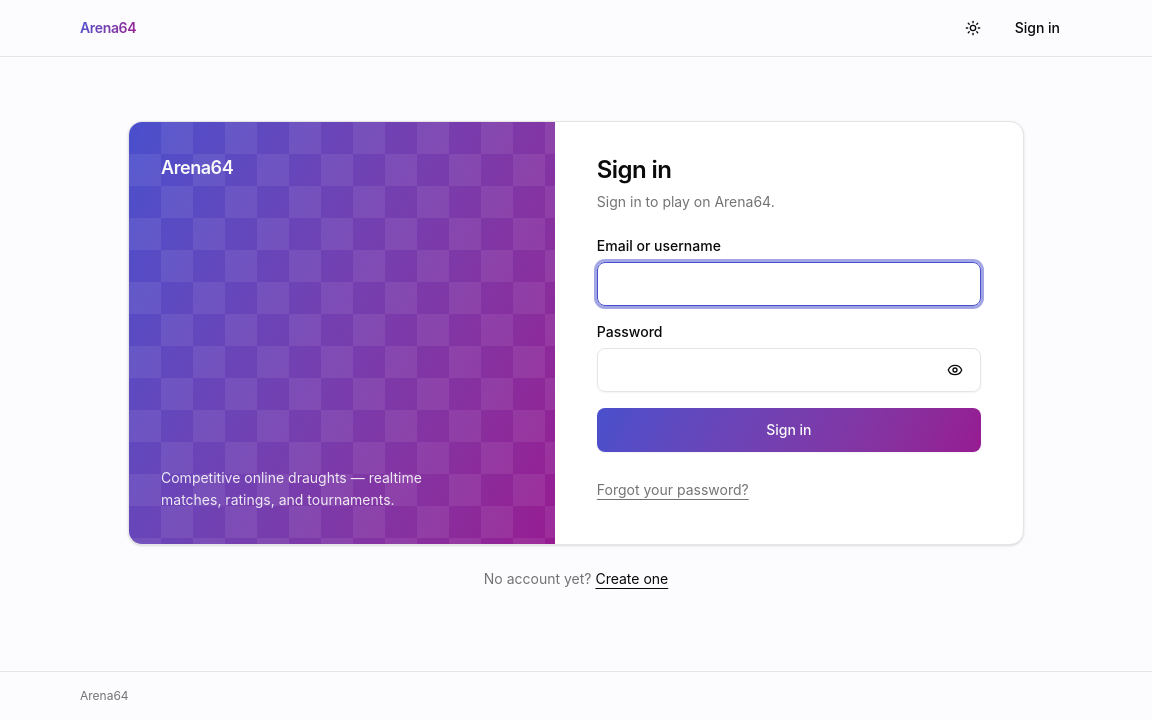
Test: a rejected sign-in — A64-031.E3 › names a network failure as a network failure
Type "player@example.com" into the field labelled "Email or username". click: {"x": 789, "y": 284}
box: [597, 262, 981, 306]
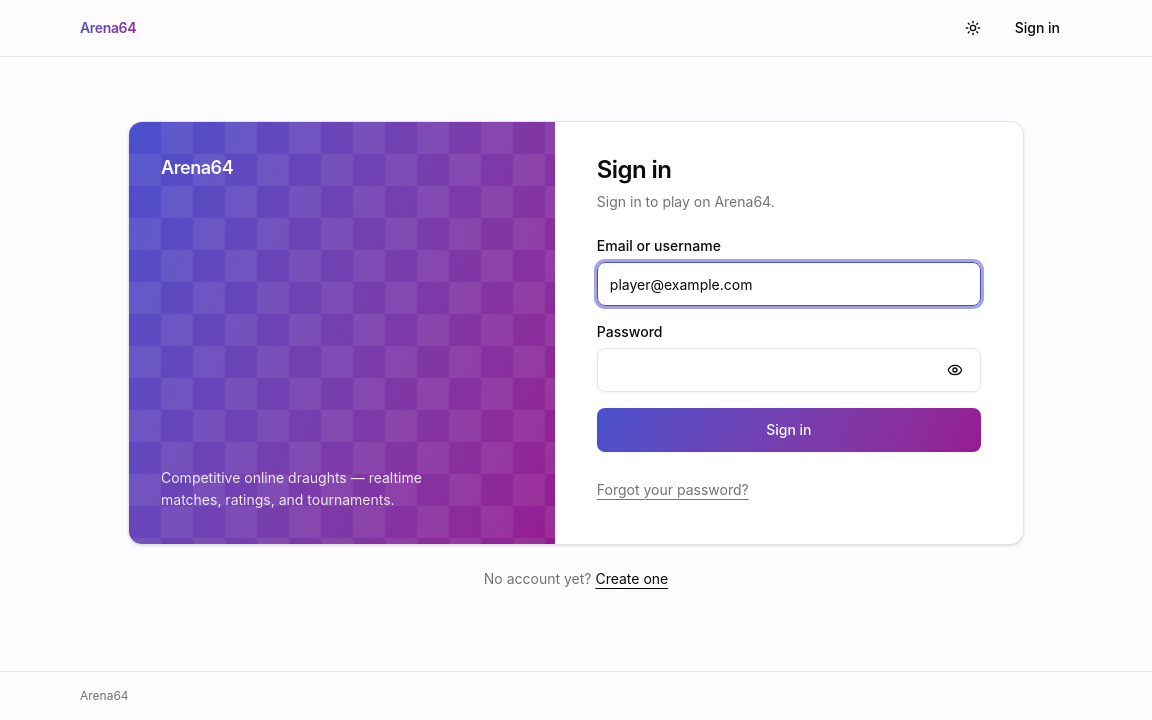
Type "x" into the password field labelled "Password". click: {"x": 789, "y": 370}
box: [597, 348, 981, 392]
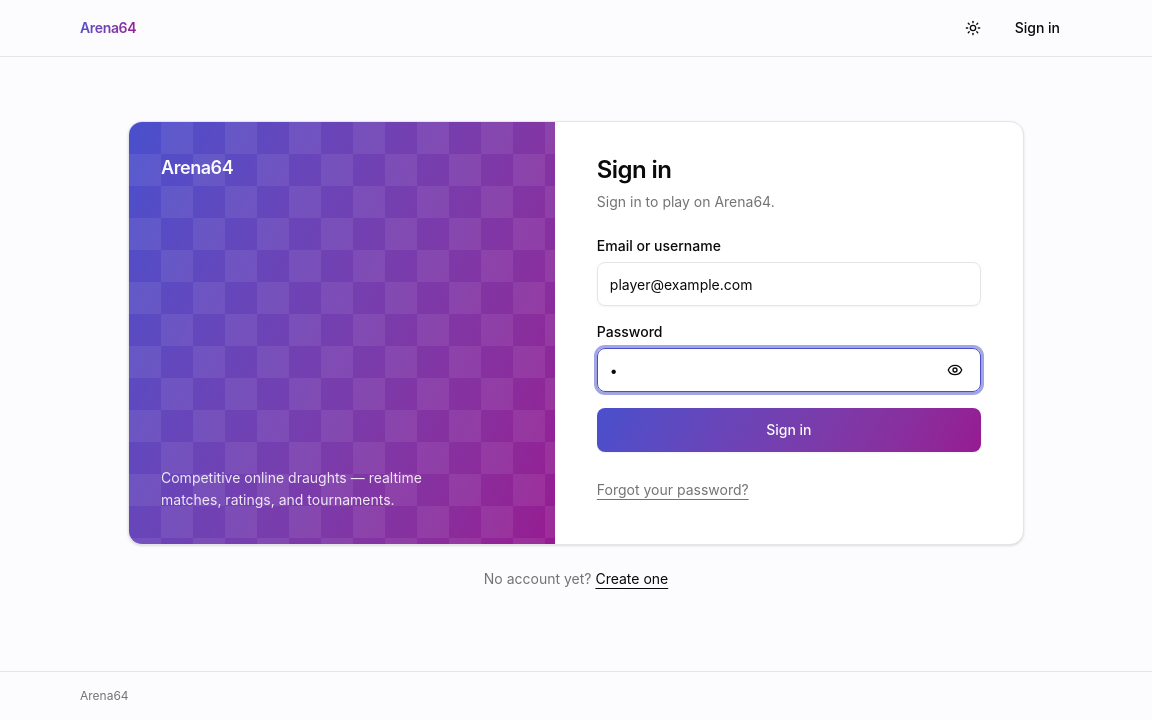
Click the button "Sign in". click: {"x": 789, "y": 430}
box: [597, 408, 981, 452]
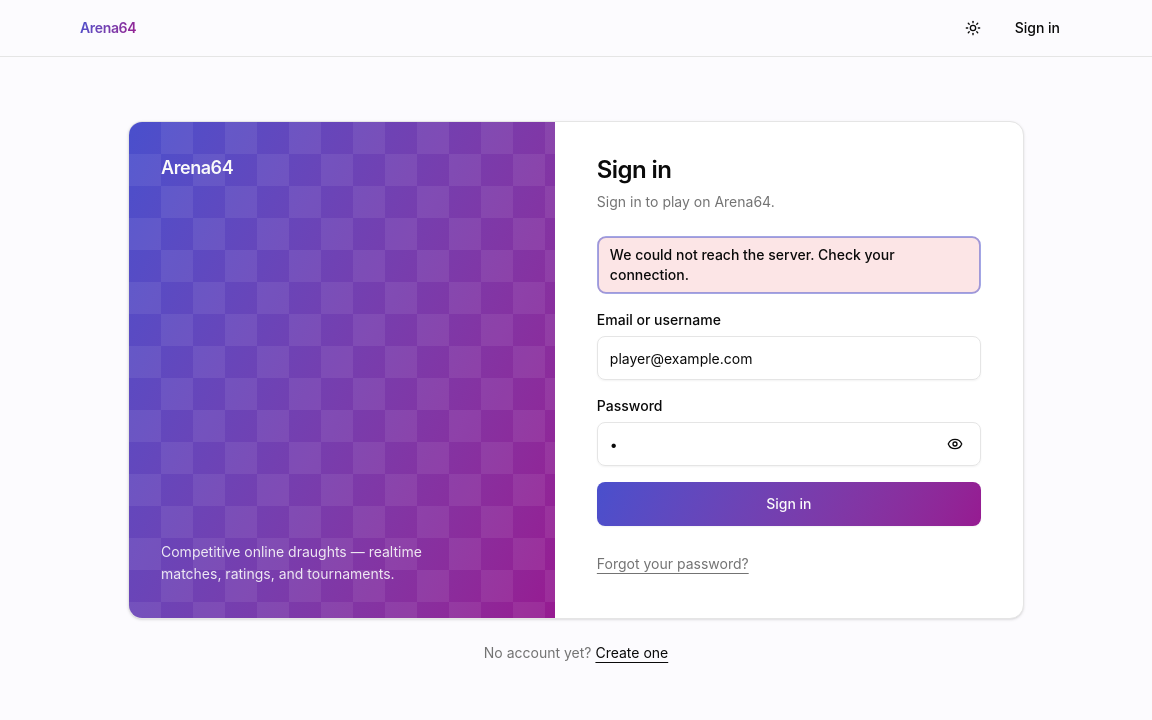
Check: the message reads "We could not reach the server. Check your connection.", box [610, 246, 895, 283]
